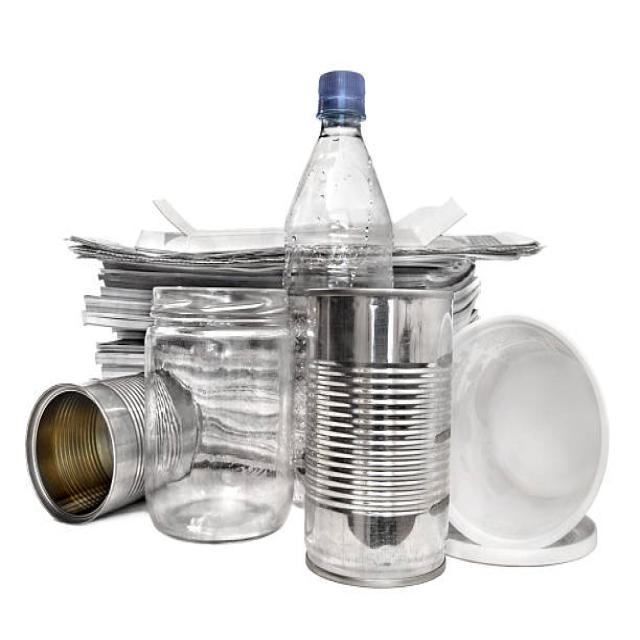cardboard: (69, 216, 263, 268)
glass: (143, 283, 299, 546)
metal: (303, 284, 459, 604), (35, 382, 135, 525)
paper: (76, 286, 140, 332)
plastic: (467, 305, 608, 544), (270, 72, 405, 274)
